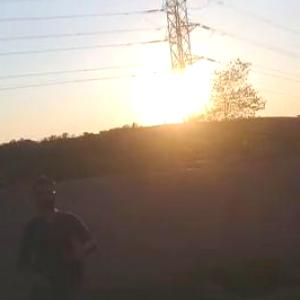follow: (10, 169, 103, 299)
